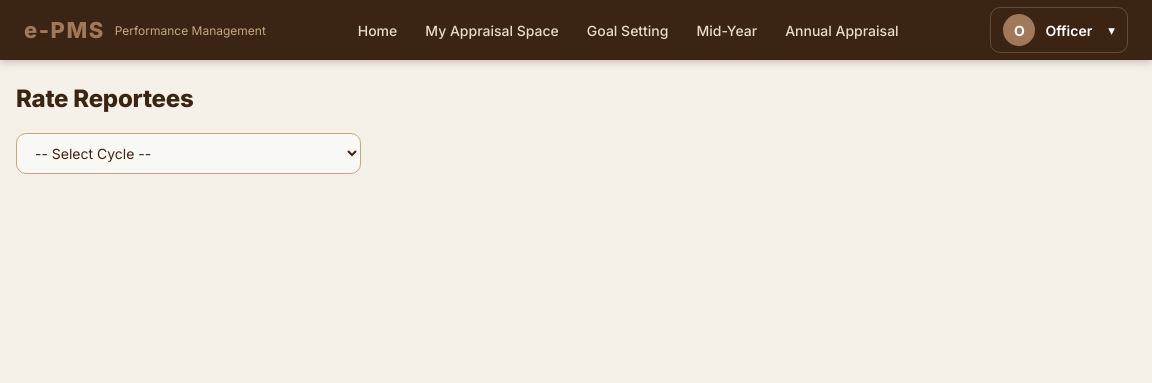
Test: Rating Page › shows appraisal list card after cycle selection
Select "FY 2024-25 (ANNUAL APPRAISAL · ACTIVE)" in the dropdown at [188, 154], box [16, 133, 361, 174]
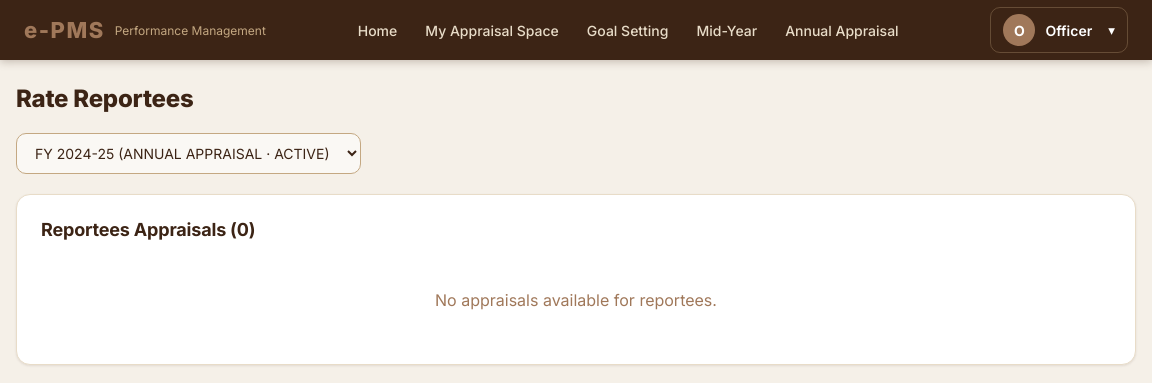
Now the heading "Reportees Appraisals (0)" is shown, box [41, 219, 255, 240]
